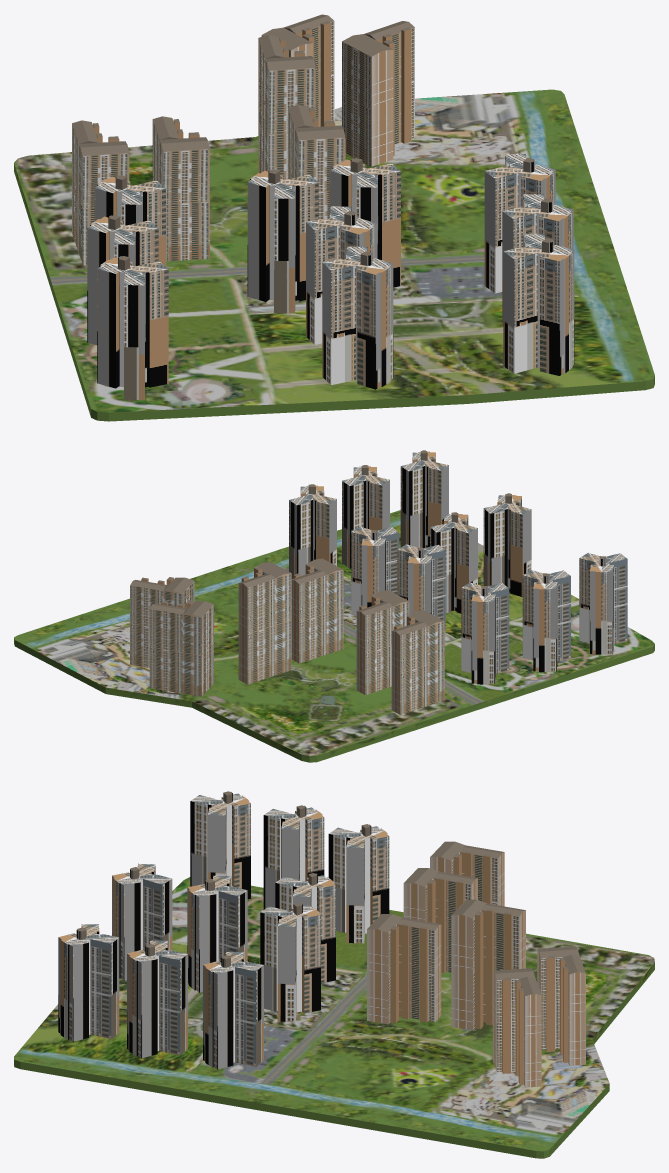
File: ICJ00105_D.glb
3 views of the same model, one above another, from view 1: azimuth 30°, elevation 25°; view 2: azimuth 150°, elevation 25°; view 3: azimuth 270°, elevation 25° (orthographic). The views are drawn at different scales.
Visible parts, largest first — view 1: MainBuilding; view 2: MainBuilding; view 3: MainBuilding.
Part boxes in pixels (x1=…): MainBuilding: x1=14, y1=14, x2=654, y2=421; MainBuilding: x1=14, y1=450, x2=654, y2=762; MainBuilding: x1=14, y1=791, x2=654, y2=1158.
Bounding box in the file's own units: 3570 × 750 × 3515.
1 material, 1 textured.
